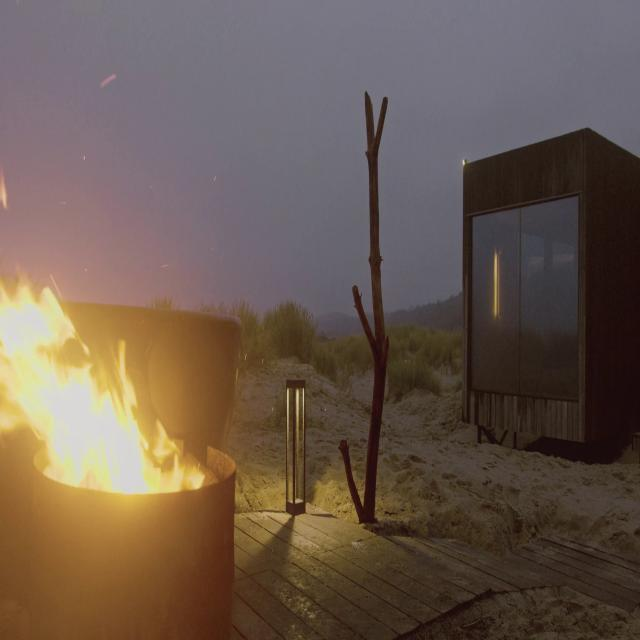Fire: (0, 267, 178, 502)
